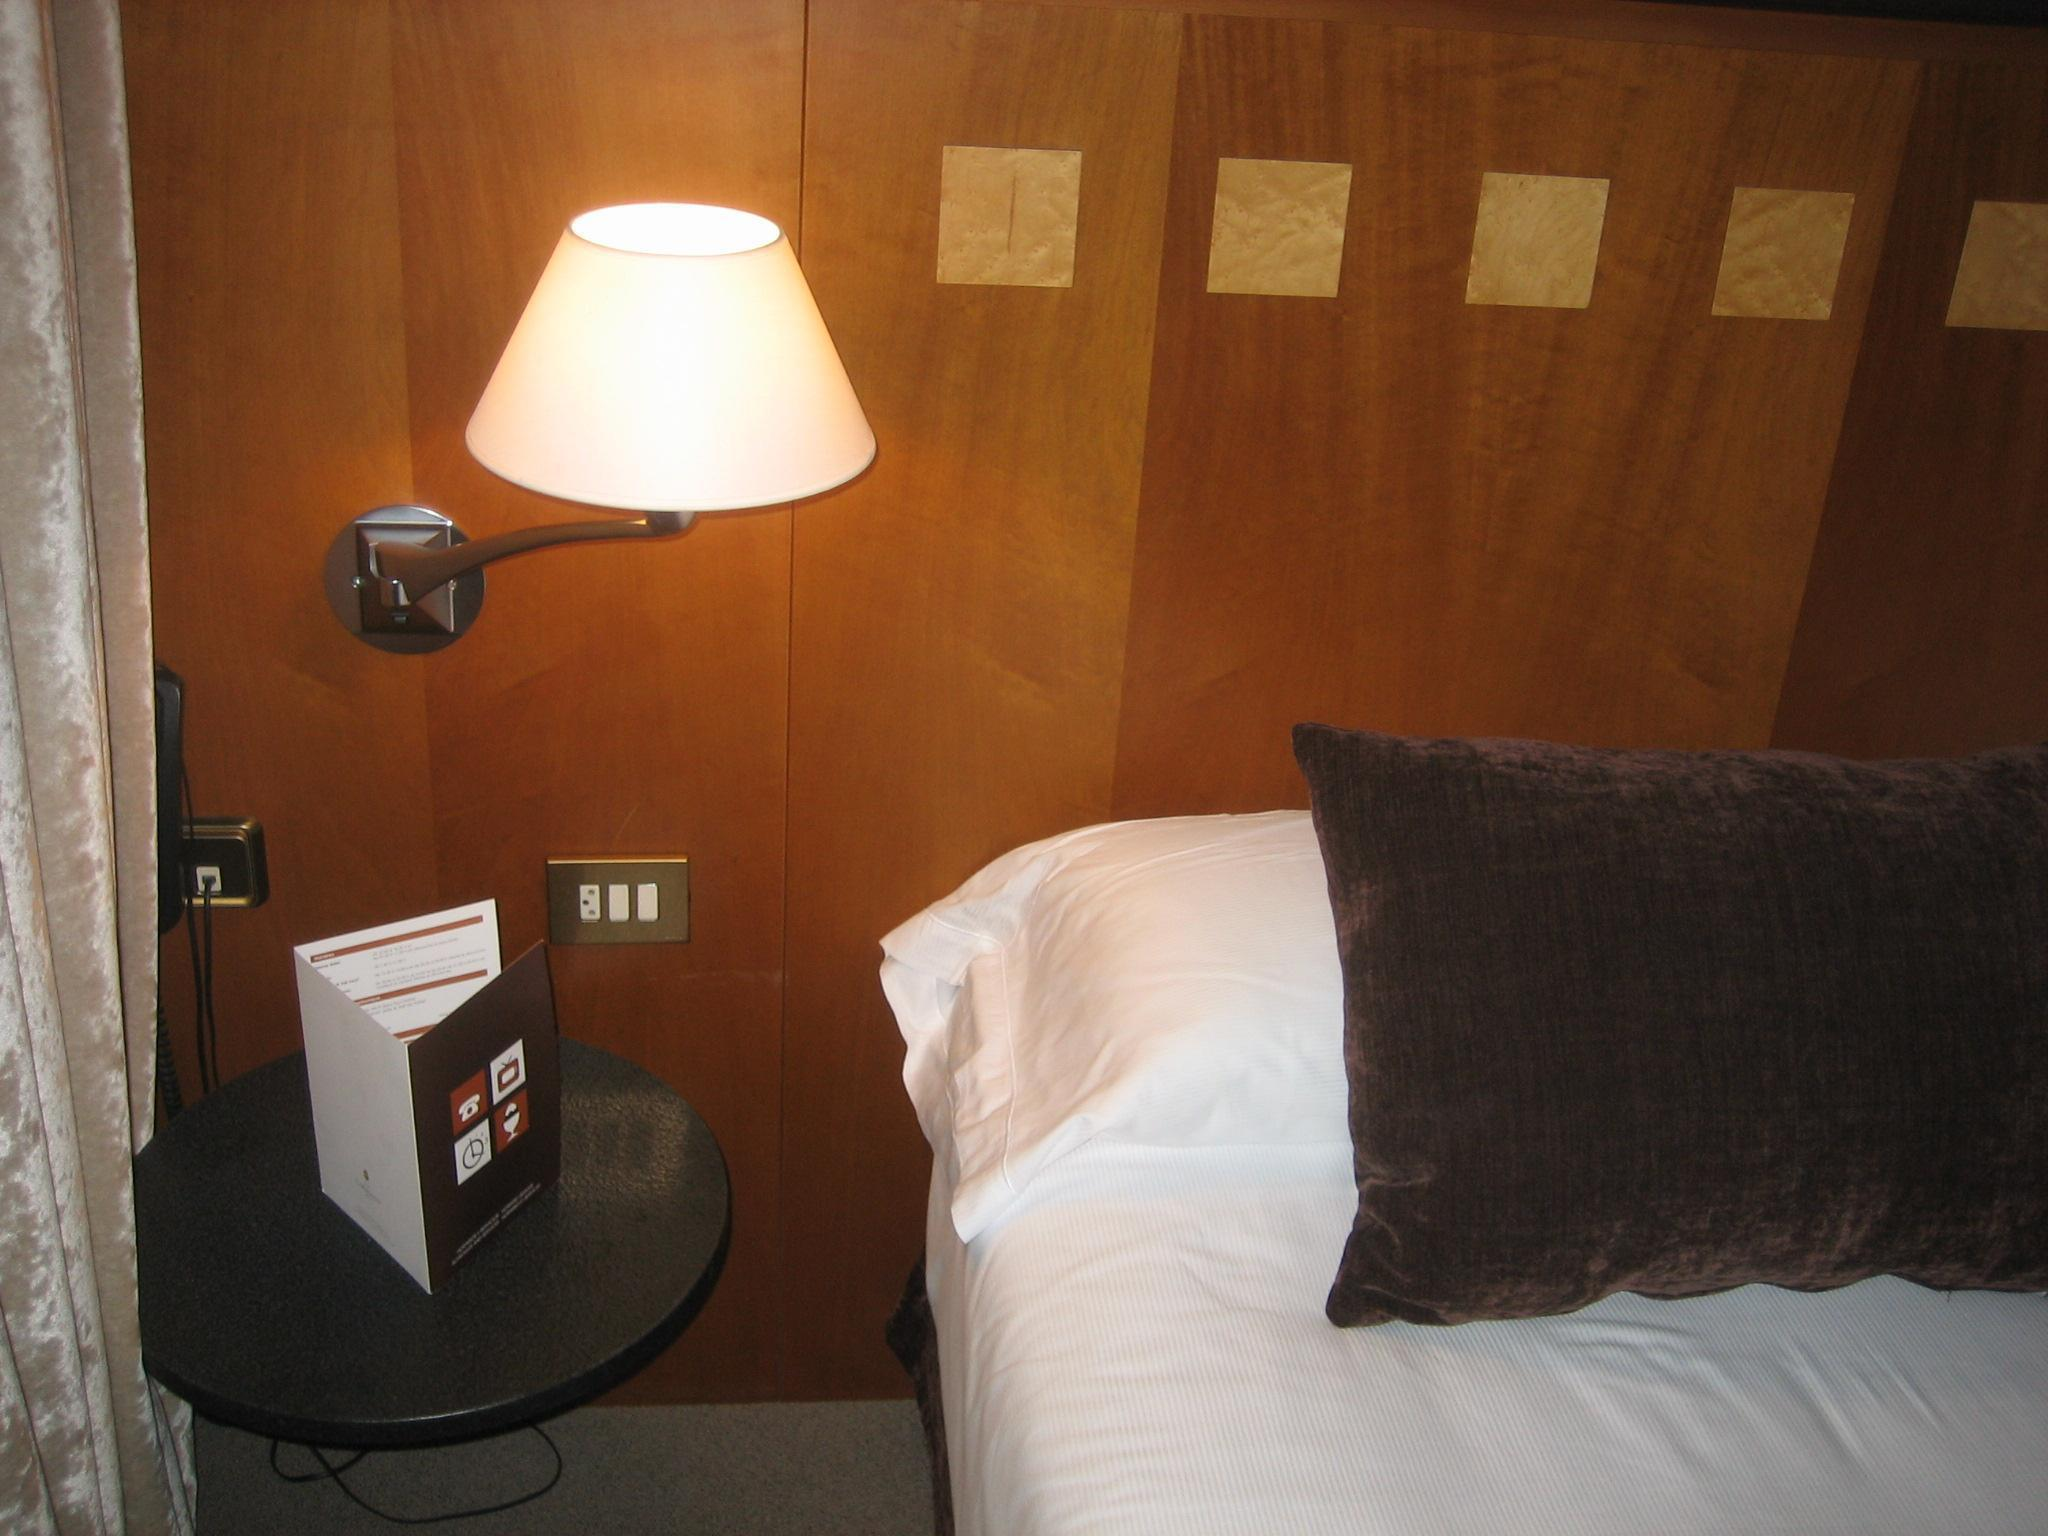Cama: (958, 692, 2035, 1526)
